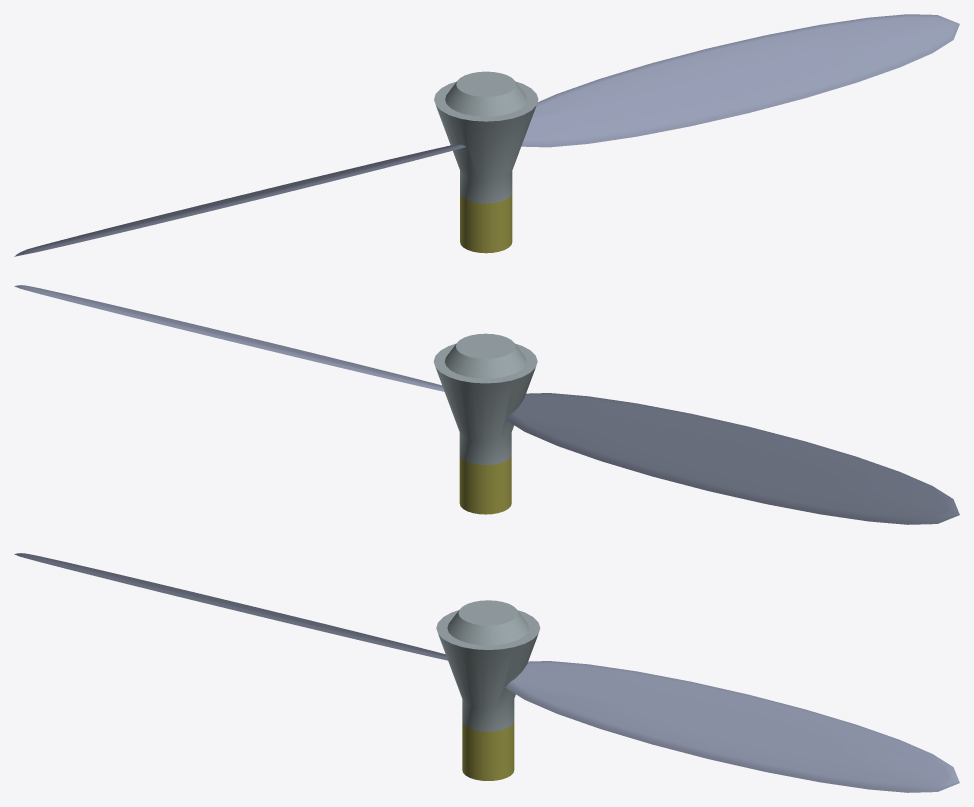
The model's file is Propeller2.fbx.
3 views of the same model, one above another, from view 1: azimuth 30°, elevation 25°; view 2: azimuth 150°, elevation 25°; view 3: azimuth 330°, elevation 25° (orthographic).
Visible parts, largest first — view 1: Model; view 2: Model; view 3: Model.
Boxes of the visible parts, x1,y1,x2,y2 form: Model: [14, 14, 959, 256]; Model: [14, 285, 959, 524]; Model: [14, 553, 959, 792].
Size of the model in its own units: 1219 by 194 by 116.
